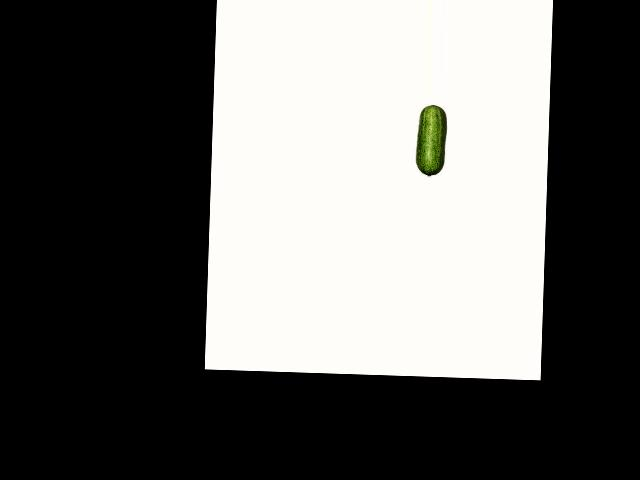cucumber: (416, 104, 447, 177)
